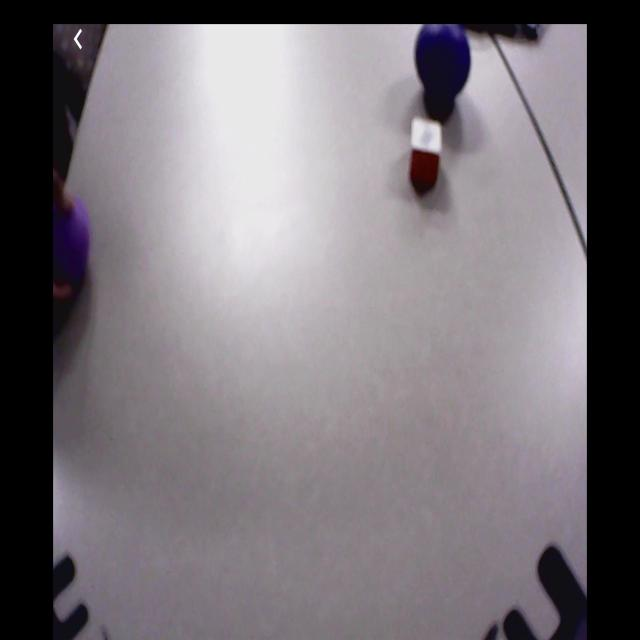ball: (415, 25, 473, 98), (57, 191, 89, 293)
